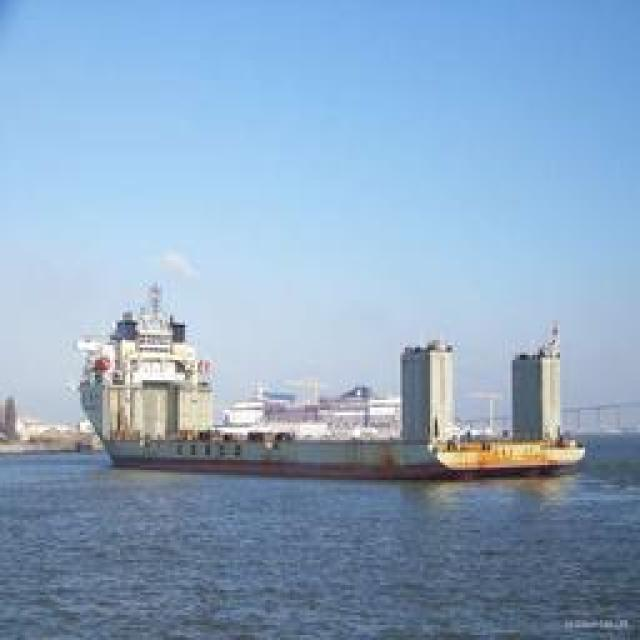CIV_Ship: (75, 280, 588, 478)
